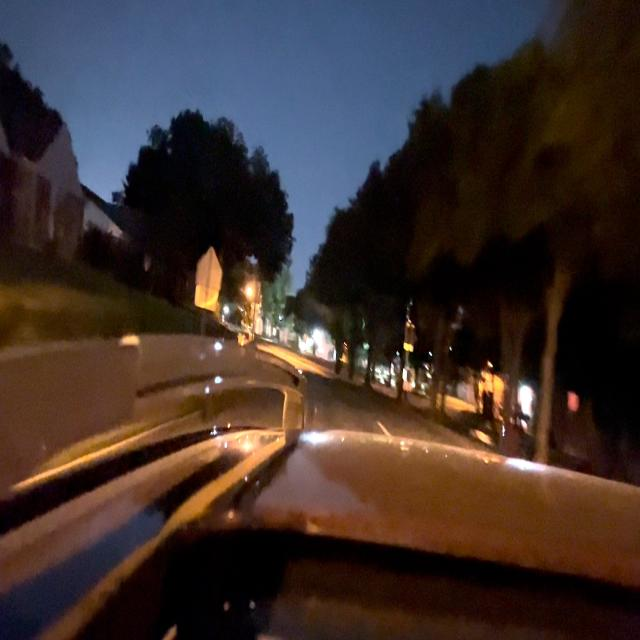back-of-sign: (195, 248, 223, 309)
